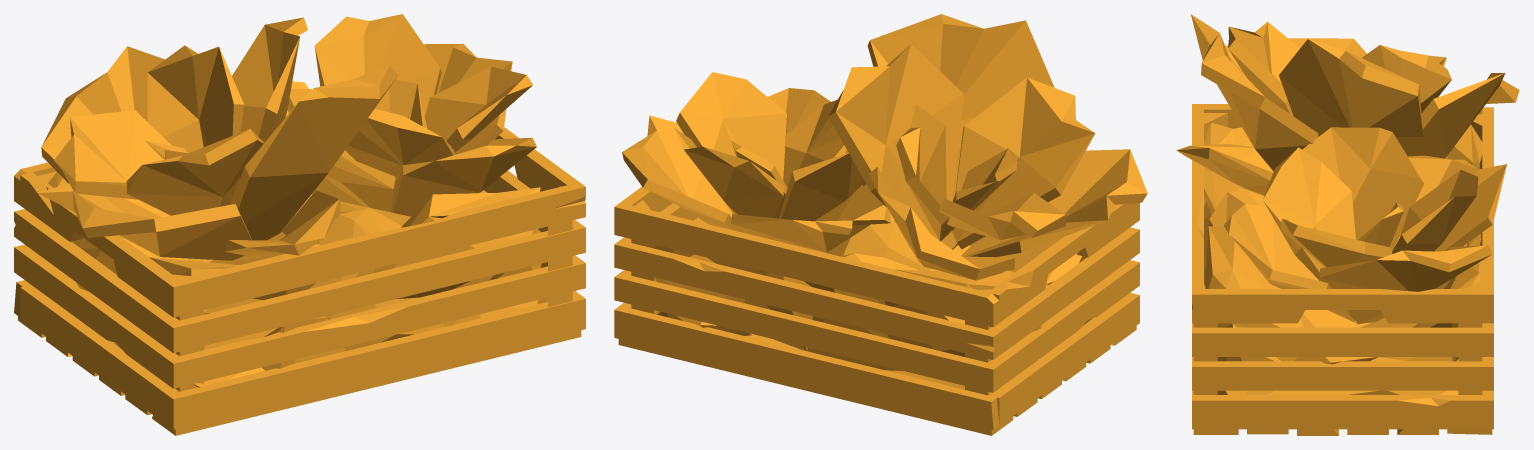
The model's file is SM_Crate_Wood_Medium_Salad.fbx.
The picture shows the model from 3 angles, left to right: view 1: azimuth 30°, elevation 25°; view 2: azimuth 150°, elevation 25°; view 3: azimuth 270°, elevation 25°; orthographic projection. The views are drawn at different scales.
Parts seen in each view (by area): view 1: crate-wood-medium-salad; view 2: crate-wood-medium-salad; view 3: crate-wood-medium-salad.
Part boxes in pixels (box(x1,y1,x2,y2)): crate-wood-medium-salad: box(14, 14, 585, 435); crate-wood-medium-salad: box(614, 14, 1147, 435); crate-wood-medium-salad: box(1176, 14, 1519, 435).
Bounding box in the file's own units: 0.7164 × 0.4361 × 0.4618.
